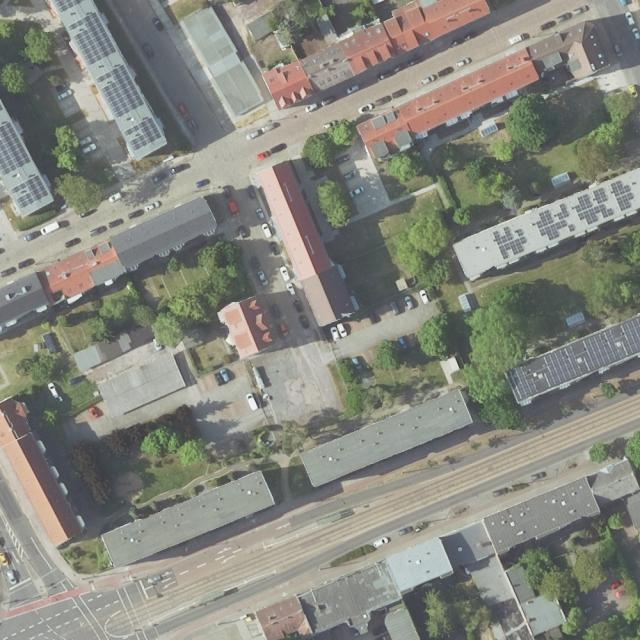PV: (583, 316, 640, 372), (94, 63, 146, 120), (68, 12, 117, 70), (0, 120, 32, 176), (543, 344, 583, 388), (573, 186, 616, 226), (534, 202, 576, 242), (122, 116, 163, 153), (9, 175, 49, 209), (493, 225, 529, 261), (506, 365, 538, 400), (612, 180, 636, 211), (51, 0, 89, 14)
